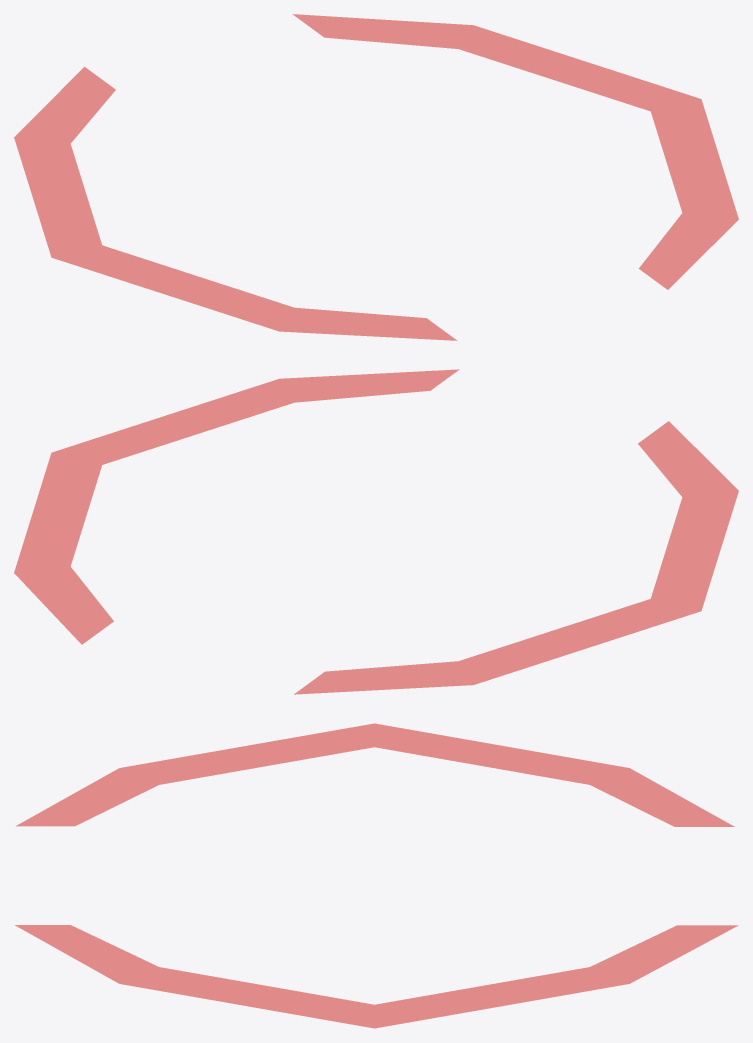
Rendered from entity430300.gltf.
3 views of the same model, one above another, from view 1: azimuth 30°, elevation 25°; view 2: azimuth 150°, elevation 25°; view 3: azimuth 270°, elevation 25° (orthographic). The views are drawn at different scales.
Parts seen in each view (by area): view 1: node_polySurface63; view 2: node_polySurface63; view 3: node_polySurface63.
Part boxes in pixels (x1=…): node_polySurface63: x1=14, y1=14, x2=738, y2=340; node_polySurface63: x1=14, y1=369, x2=738, y2=694; node_polySurface63: x1=15, y1=723, x2=738, y2=1028.
Size of the model in its own units: 7.15 by 0 by 7.18.
